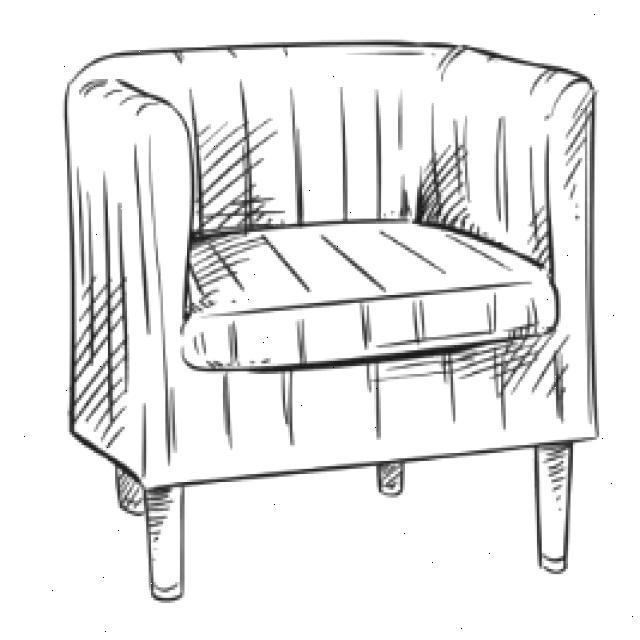Armrest: (432, 46, 596, 333), (67, 63, 191, 351)
Backrest: (94, 41, 467, 238)
Leg_Structure: (114, 435, 581, 606)
Seat: (181, 219, 560, 372)
